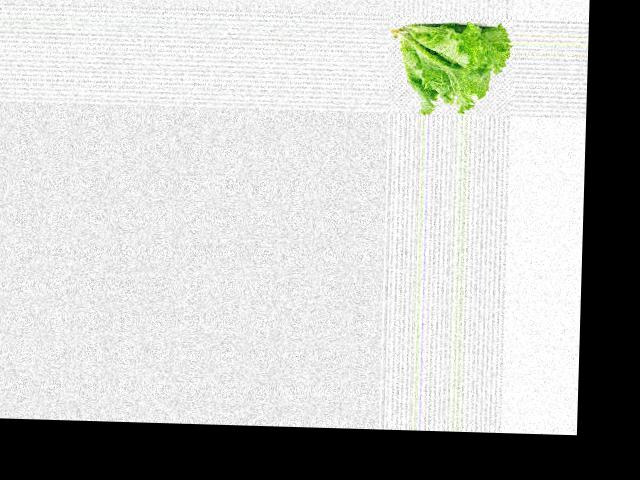lettuce: (387, 23, 511, 116)
